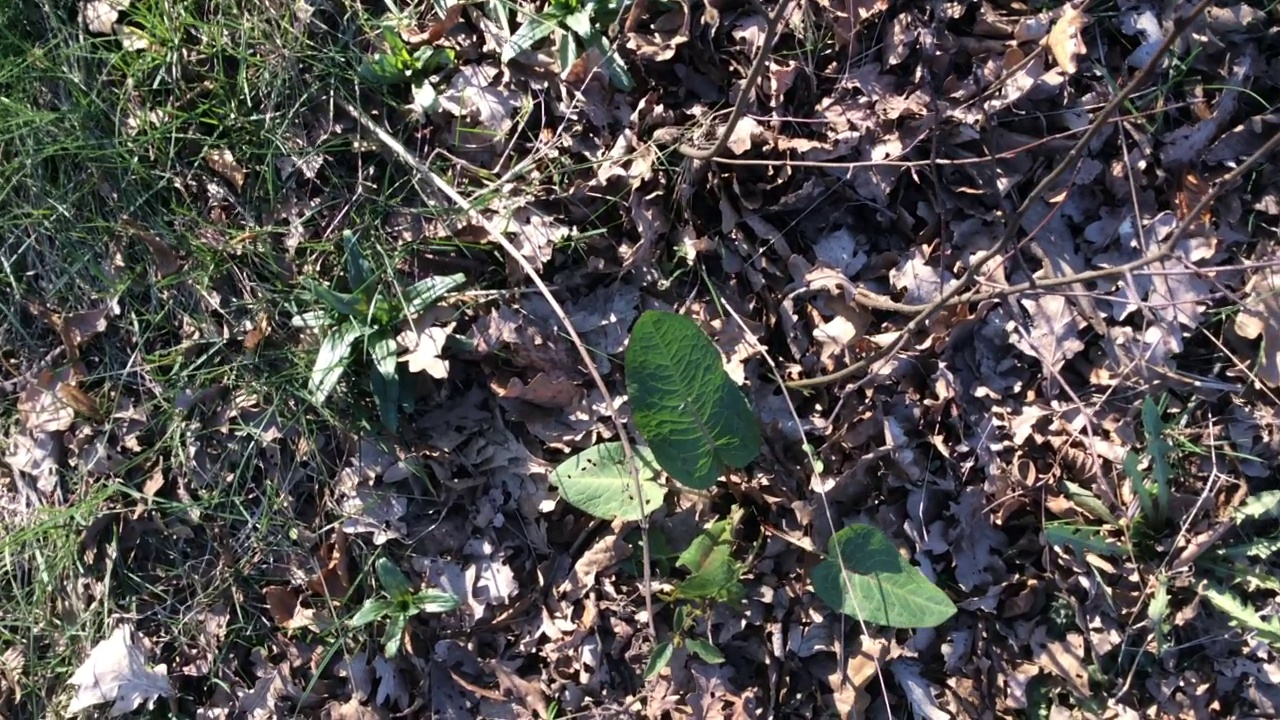rumex: (546, 310, 960, 680)
